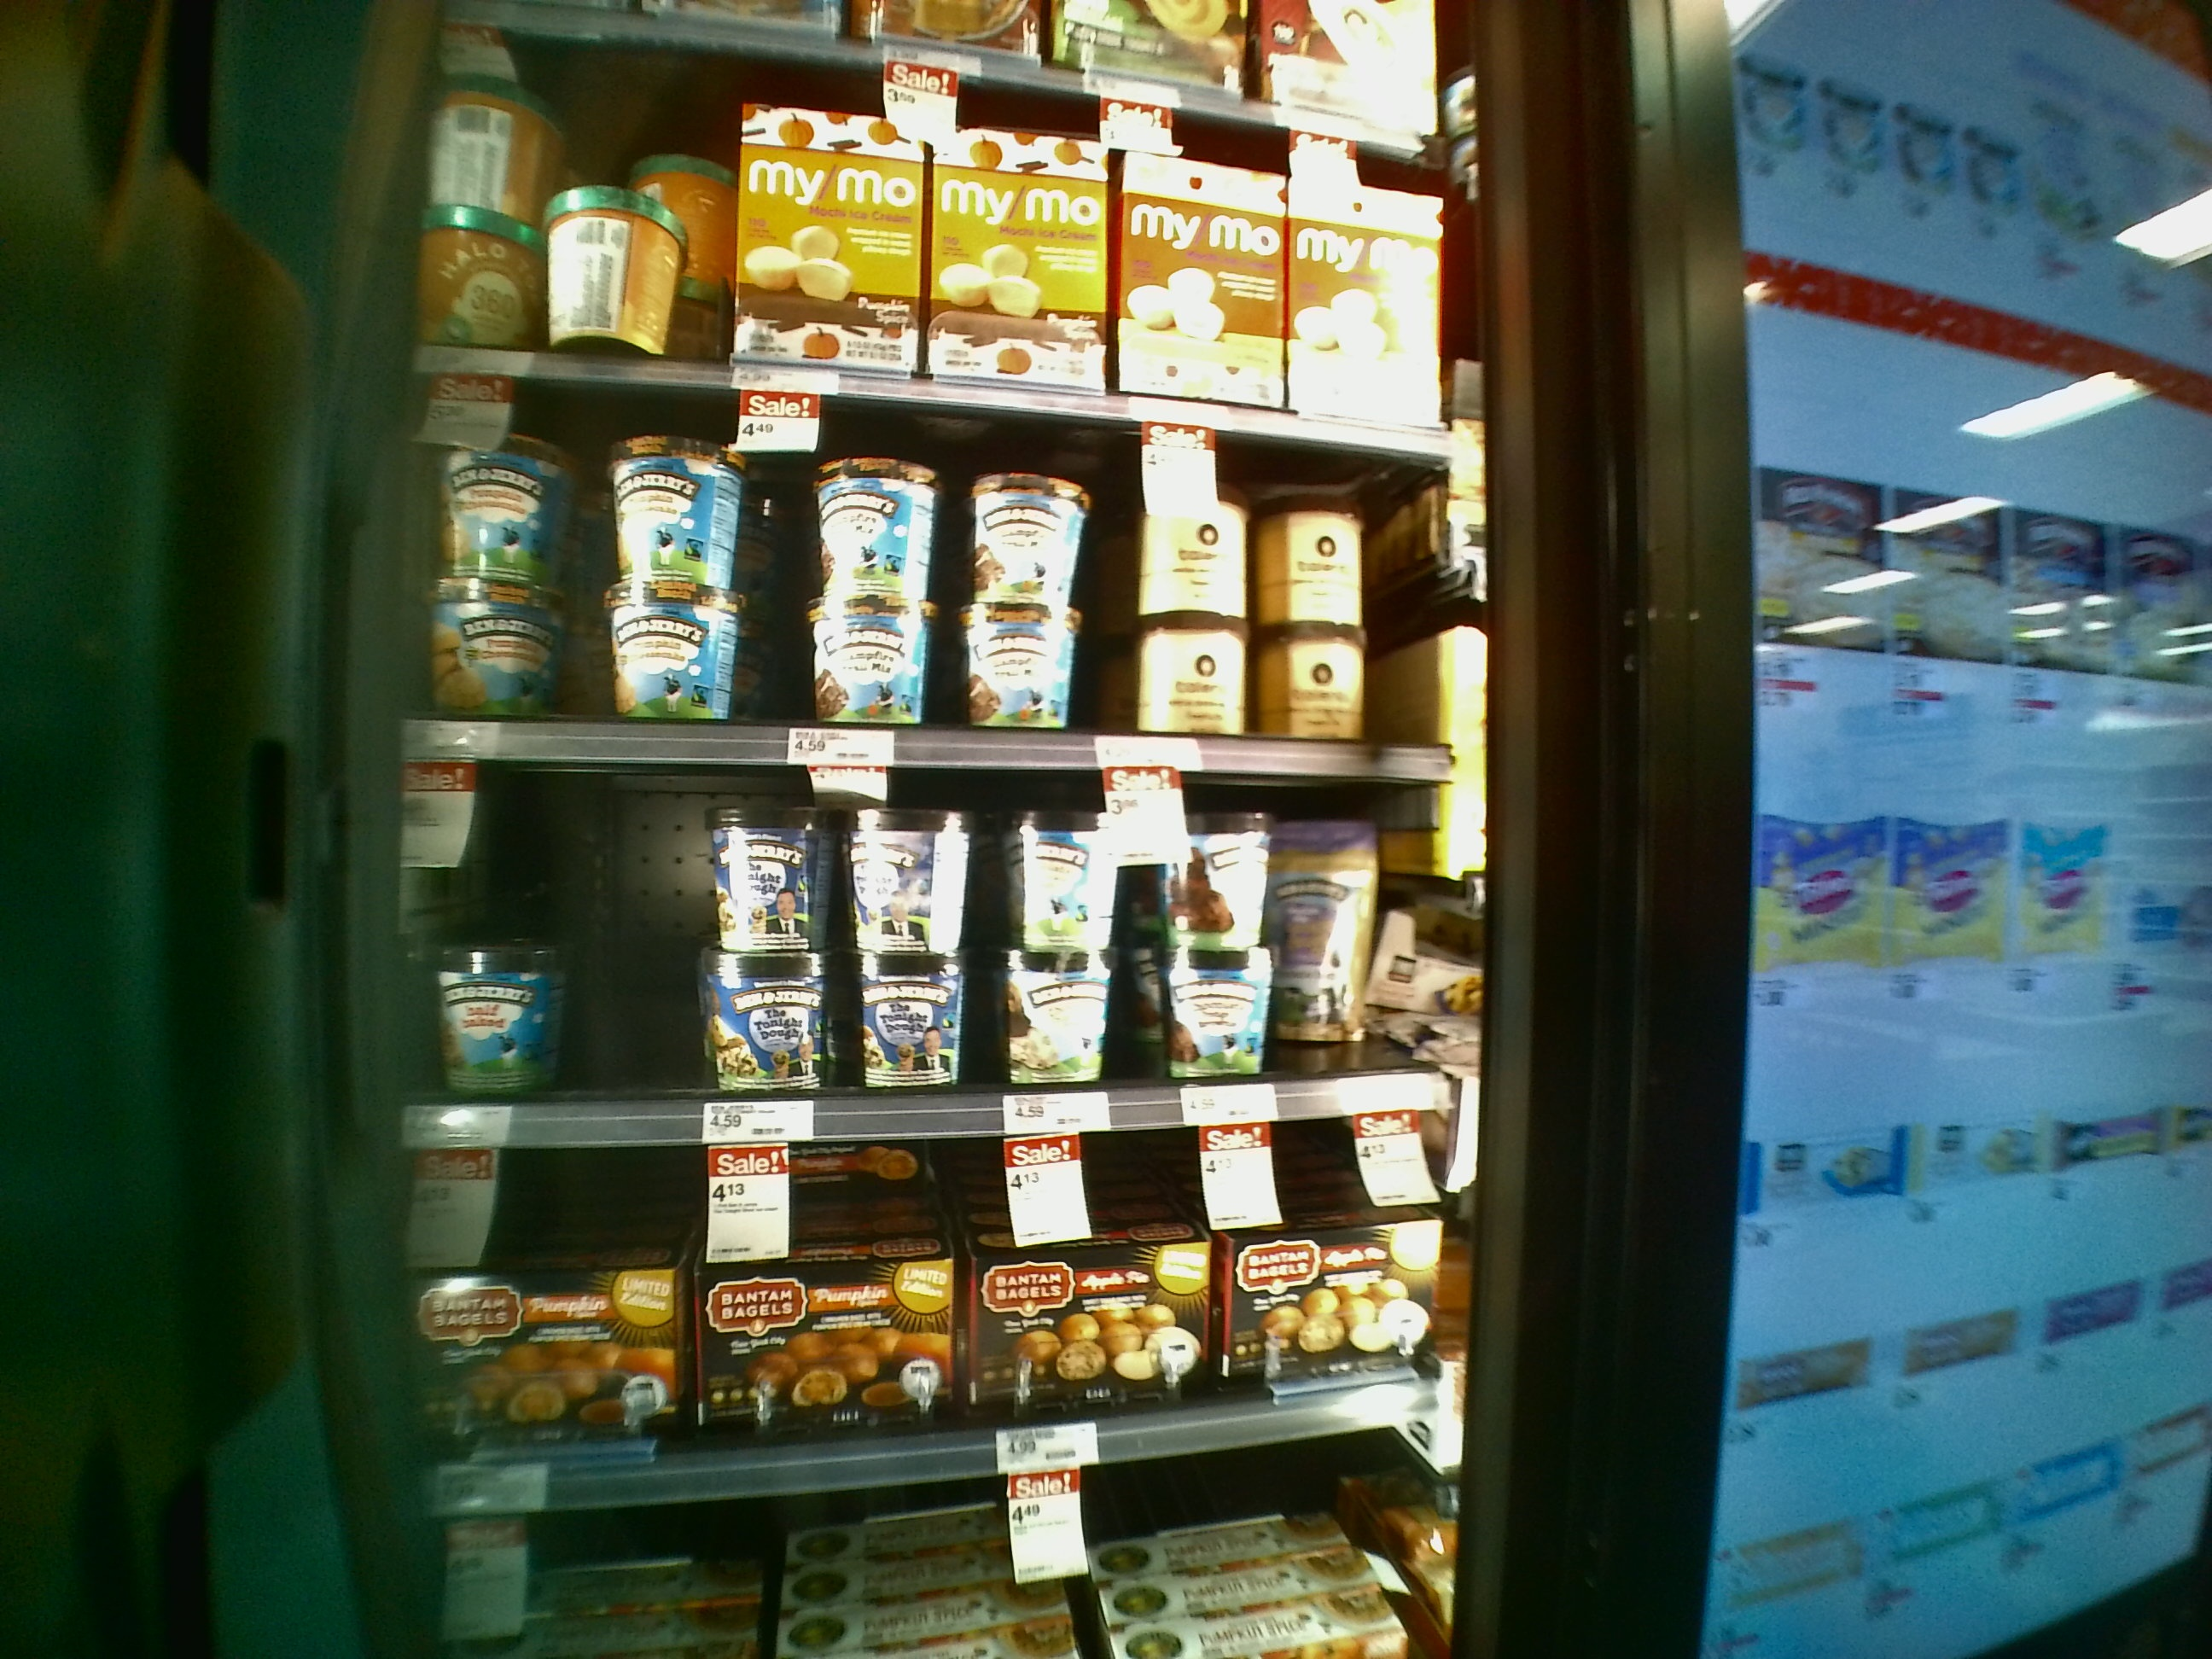shelf: (387, 357, 1491, 793), (374, 760, 1486, 1140), (371, 1148, 1491, 1485)
